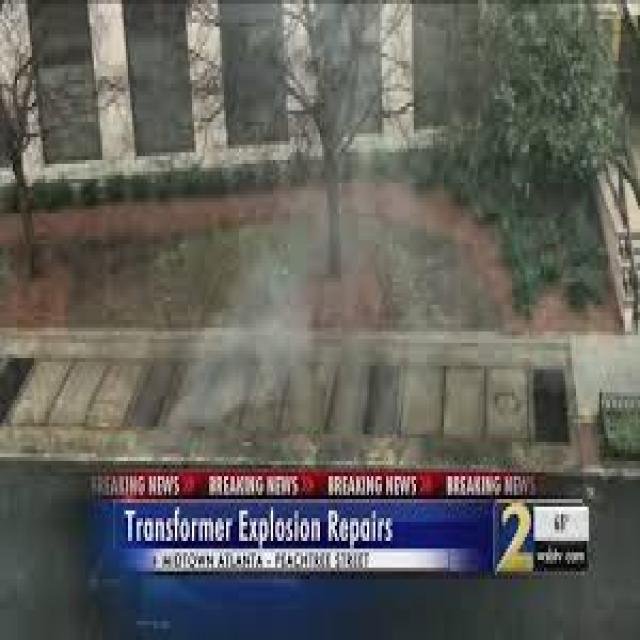Smoke: (168, 216, 312, 430)
